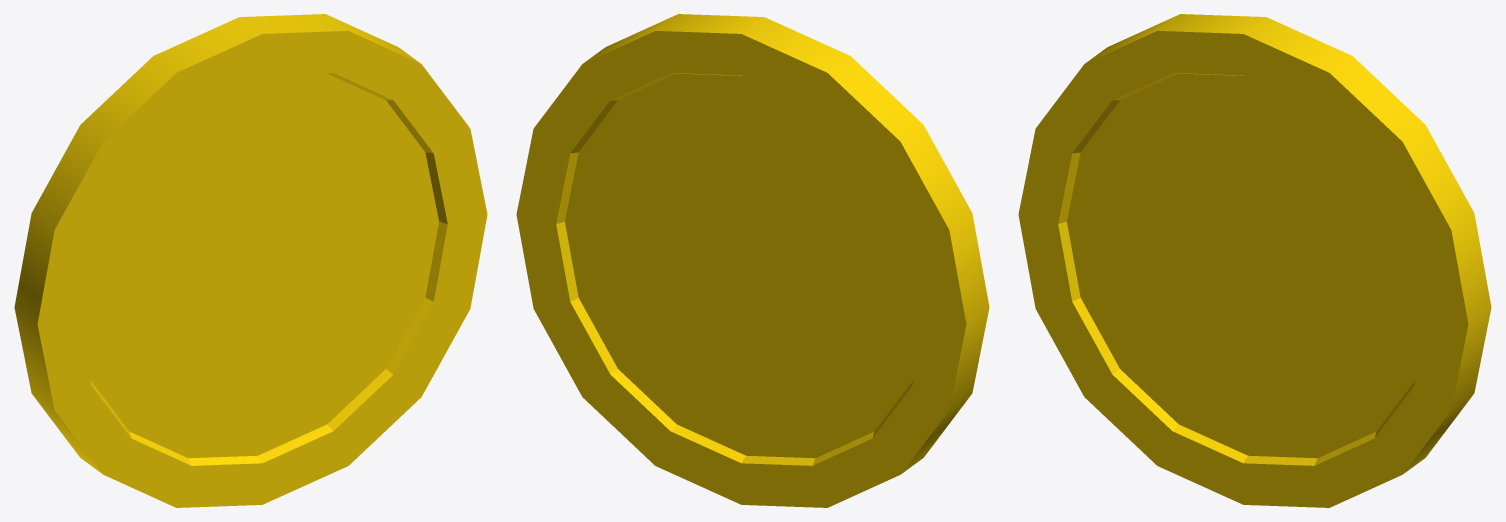
File: CoinGold.fbx
3 renders of one model, left to right at view 1: azimuth 30°, elevation 25°; view 2: azimuth 150°, elevation 25°; view 3: azimuth 330°, elevation 25°, orthographic.
Parts seen in each view (by area): view 1: CoinGold; view 2: CoinGold; view 3: CoinGold.
Part boxes in pixels (<box>): CoinGold: <box>14,14,487,507</box>; CoinGold: <box>516,14,989,507</box>; CoinGold: <box>1018,14,1491,507</box>.
Bounding box in the file's own units: 31.56 × 31.56 × 2.8.
1 material, 1 textured.
